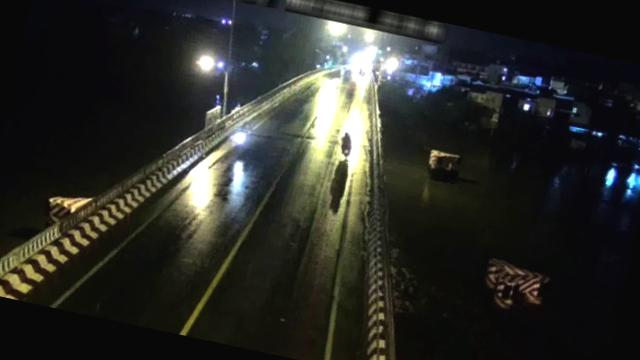Bike: (335, 130, 356, 162), (232, 128, 250, 149)
